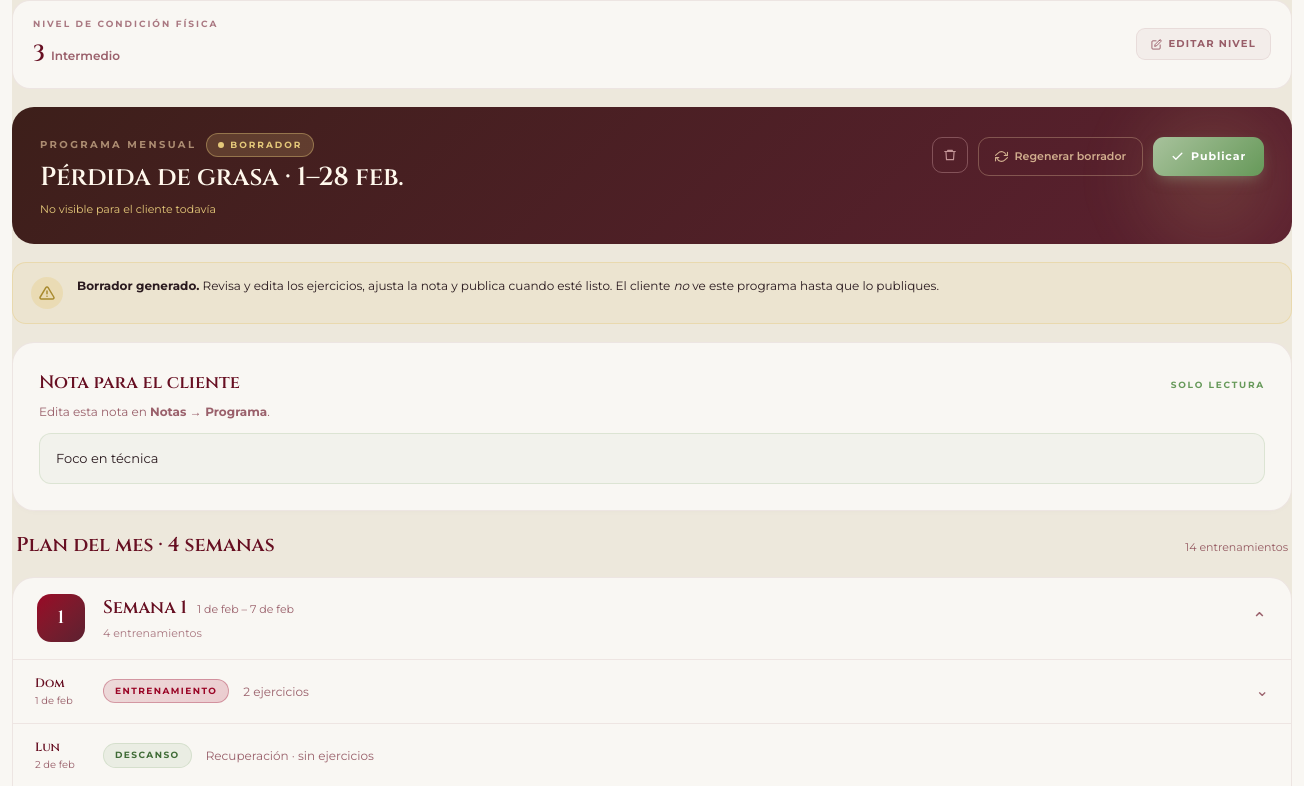
Test: ClientProgramTab › shows an error banner after a failed regenerate attempt on a draft program
Expected: the text "Borrador" is shown, [206,133,314,157]
Click the button "Regenerar borrador" at [1060, 156], box [978,137,1143,176]
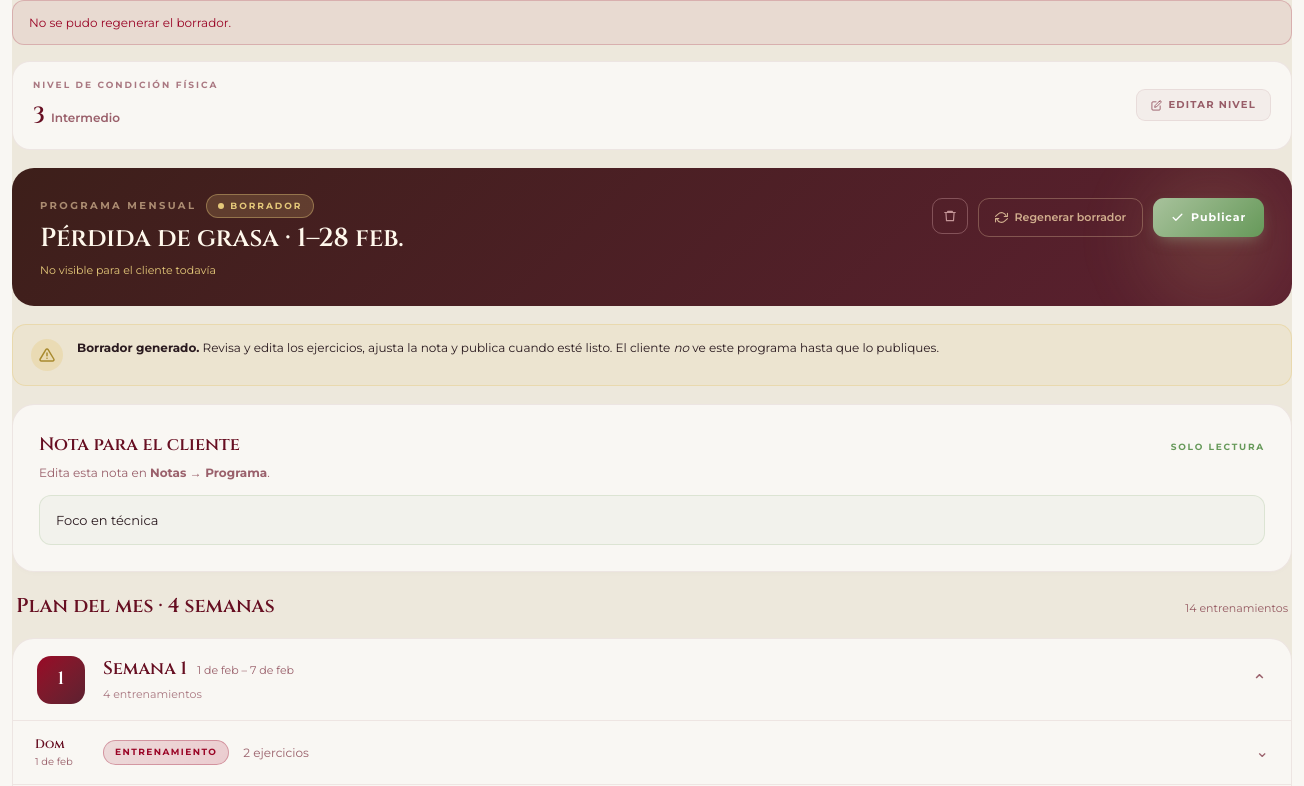
Expected: the text "No se pudo regenerar el borrador." is shown, [12,0,1292,45]
